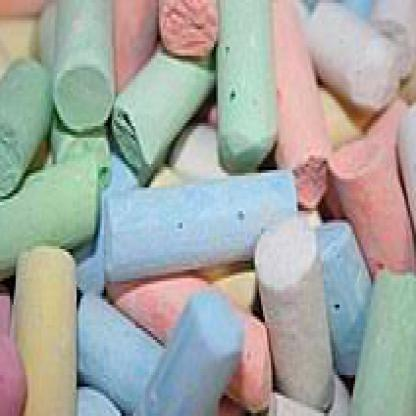Sedimentary_Chalk: (1, 14, 357, 414)
